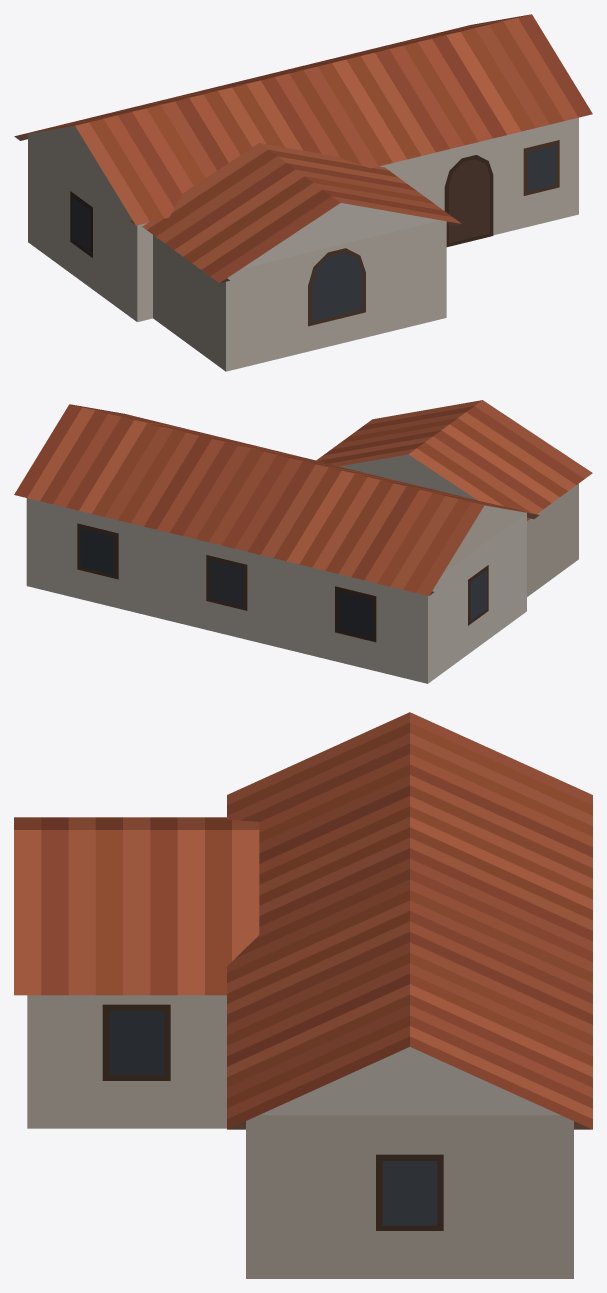
Rendered from house-spanish.glb.
The picture shows the model from 3 angles, top to bottom: view 1: azimuth 30°, elevation 25°; view 2: azimuth 150°, elevation 25°; view 3: azimuth 270°, elevation 25°; orthographic projection. The views are drawn at different scales.
Parts seen in each view (by area): view 1: house-spanish_v0_LOD0; view 2: house-spanish_v0_LOD0; view 3: house-spanish_v0_LOD0.
Part boxes in pixels (<box>): house-spanish_v0_LOD0: <box>14,14,592,371</box>; house-spanish_v0_LOD0: <box>14,400,592,683</box>; house-spanish_v0_LOD0: <box>14,712,592,1278</box>.
Size of what is drawn, in the model's own units: 14.49 by 4.8 by 10.6.
